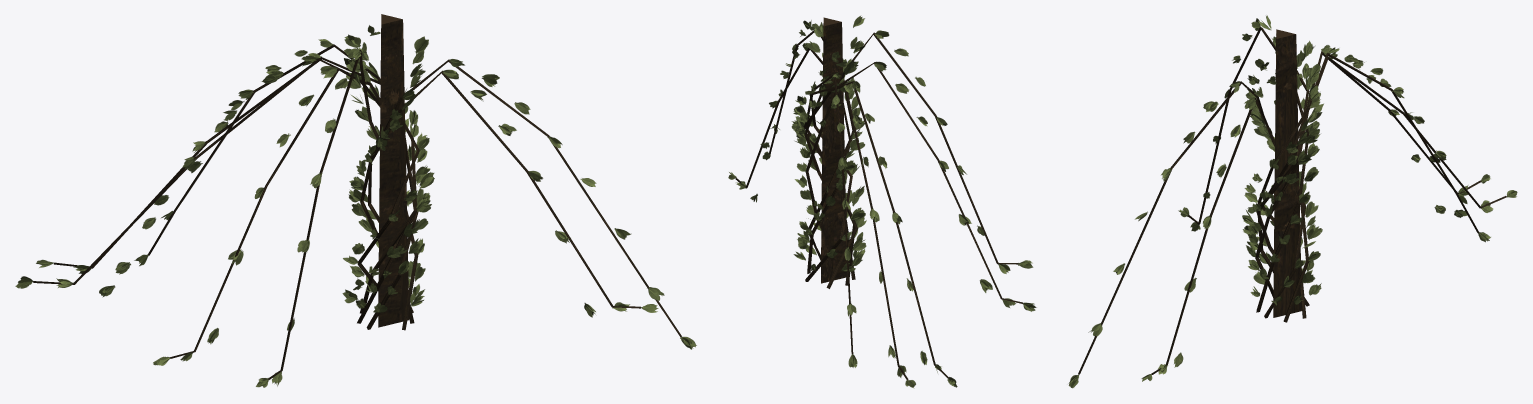
Rendered from liana_cluster_v02_LOD1.glb.
3 views of the same model, side by side, from view 1: azimuth 30°, elevation 25°; view 2: azimuth 150°, elevation 25°; view 3: azimuth 270°, elevation 25° (orthographic). The views are drawn at different scales.
Visible parts, largest first — view 1: liana_cluster_v02_LOD1; view 2: liana_cluster_v02_LOD1; view 3: liana_cluster_v02_LOD1.
Part boxes in pixels (bbox=[...]): liana_cluster_v02_LOD1: bbox=[15, 14, 696, 387]; liana_cluster_v02_LOD1: bbox=[728, 15, 1036, 388]; liana_cluster_v02_LOD1: bbox=[1068, 15, 1517, 388].
Size of the model in its own units: 2.29 by 1.49 by 2.13.
Materials: 2 (2 with a texture image).
